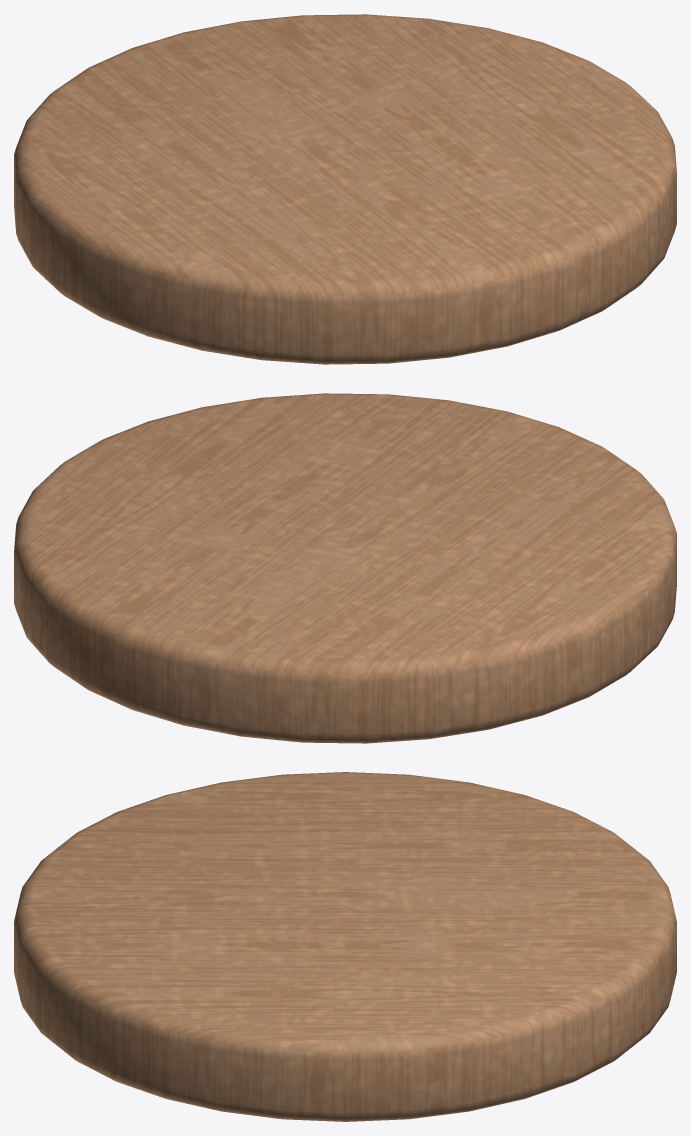
The model's file is base_inferior.obj.
3 renders of one model, top to bottom at view 1: azimuth 30°, elevation 25°; view 2: azimuth 150°, elevation 25°; view 3: azimuth 270°, elevation 25°, orthographic.
Visible parts, largest first — view 1: Cylinder; view 2: Cylinder; view 3: Cylinder.
Part boxes in pixels (x1,y1,x2,y2): Cylinder: [14, 14, 676, 364]; Cylinder: [14, 393, 676, 743]; Cylinder: [14, 772, 676, 1121].
Size of the model in its own units: 1.27 by 0.1706 by 1.27.
1 material, 1 textured.
